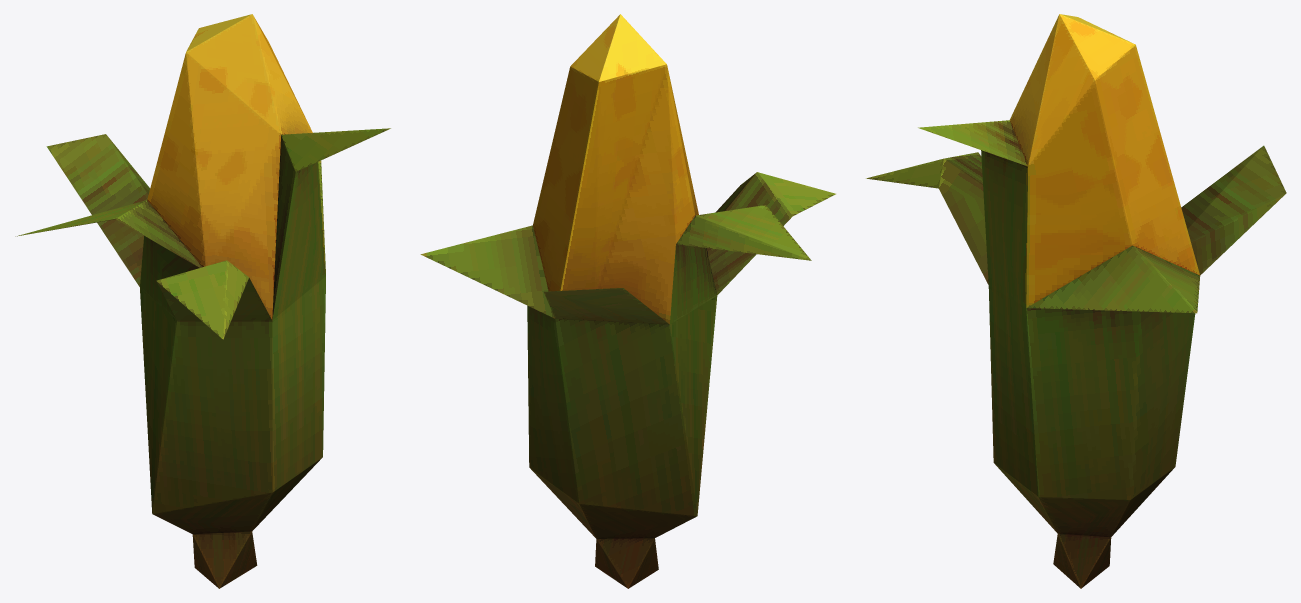
The model's file is item_corn_cob.glb.
3 views of the same model, side by side, from view 1: azimuth 30°, elevation 25°; view 2: azimuth 150°, elevation 25°; view 3: azimuth 270°, elevation 25° (orthographic). The views are drawn at different scales.
Visible parts, largest first — view 1: CornCobb; view 2: CornCobb; view 3: CornCobb.
Part boxes in pixels (bbox=[...]): CornCobb: bbox=[15, 14, 390, 588]; CornCobb: bbox=[420, 14, 835, 588]; CornCobb: bbox=[866, 14, 1286, 588].
Size of the model in its own units: 0.171 by 0.26 by 0.1748.
1 material, 1 textured.
